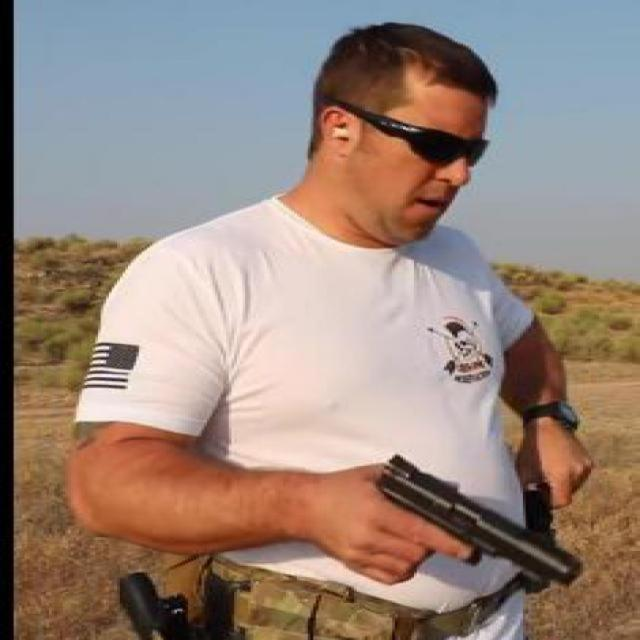pistol: (362, 448, 591, 588)
